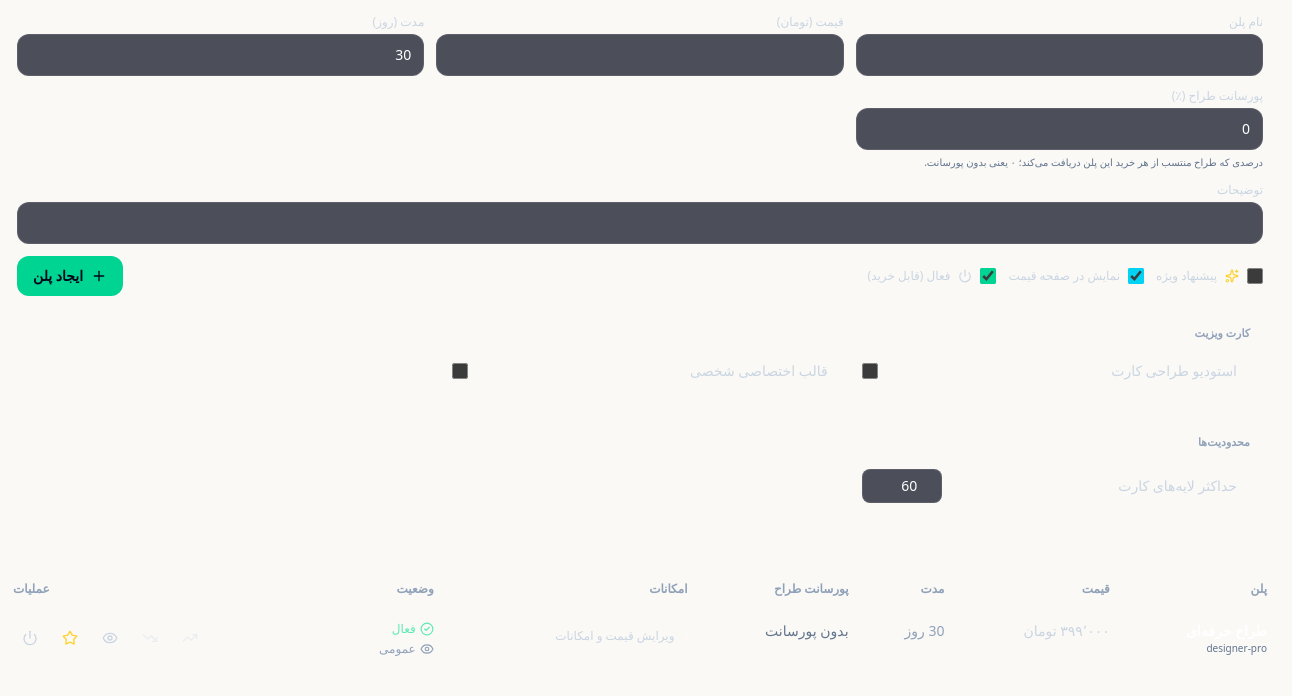
Scenario: admin plans panel — designer plan › editing the plan shows its price and designer_studio state
(page scrolled)
Click the button "ویرایش قیمت و امکانات".
click(615, 636)  # box [542,621,688,651]
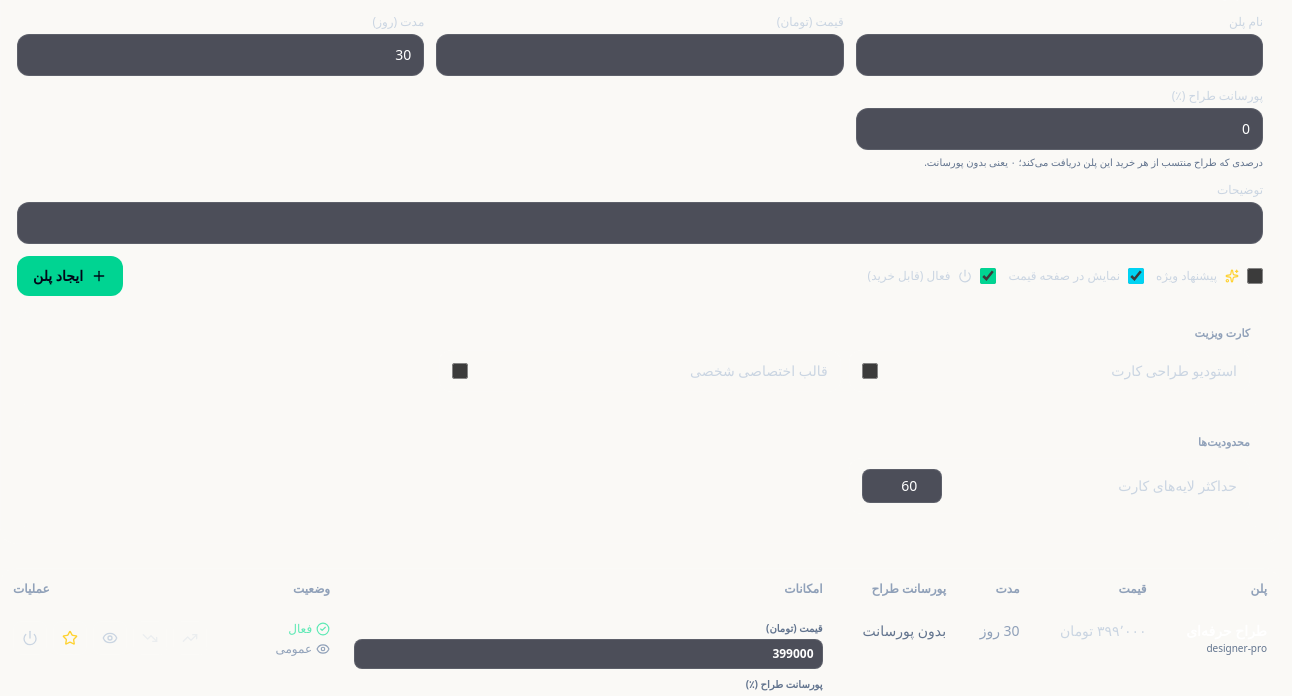
expect the number field showing "399000" in the row of "designer-pro" holds "399000": met, box [354,639,822,669]
